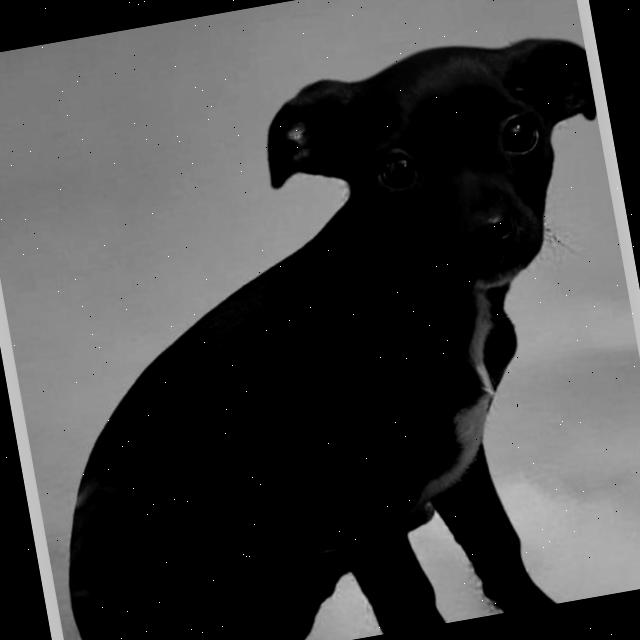chihuahua_dog: (240, 17, 618, 344)
